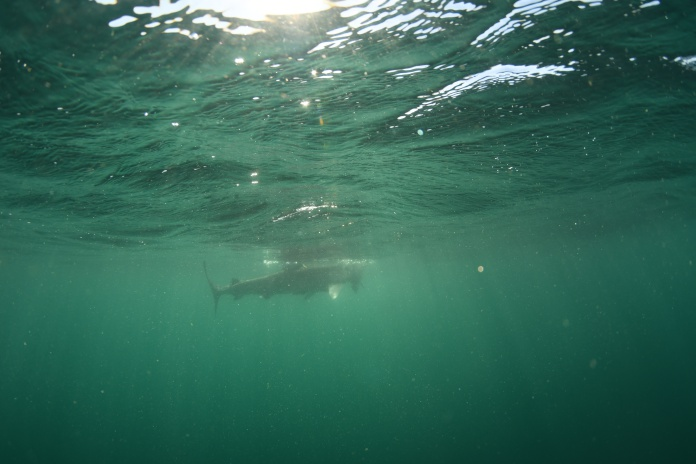Mako: (185, 243, 382, 324)
